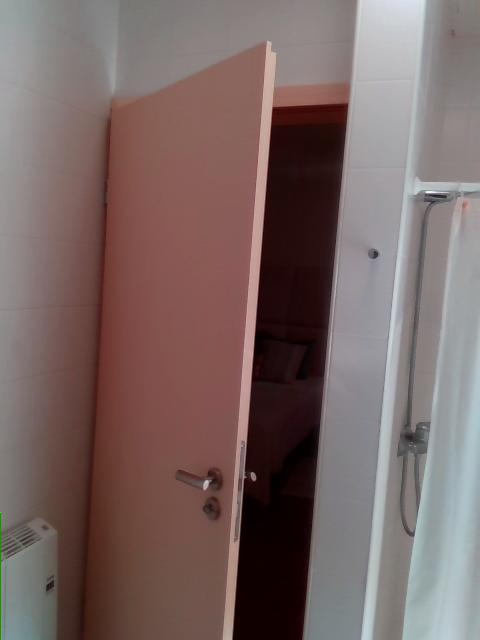semi_door: (81, 35, 350, 639)
